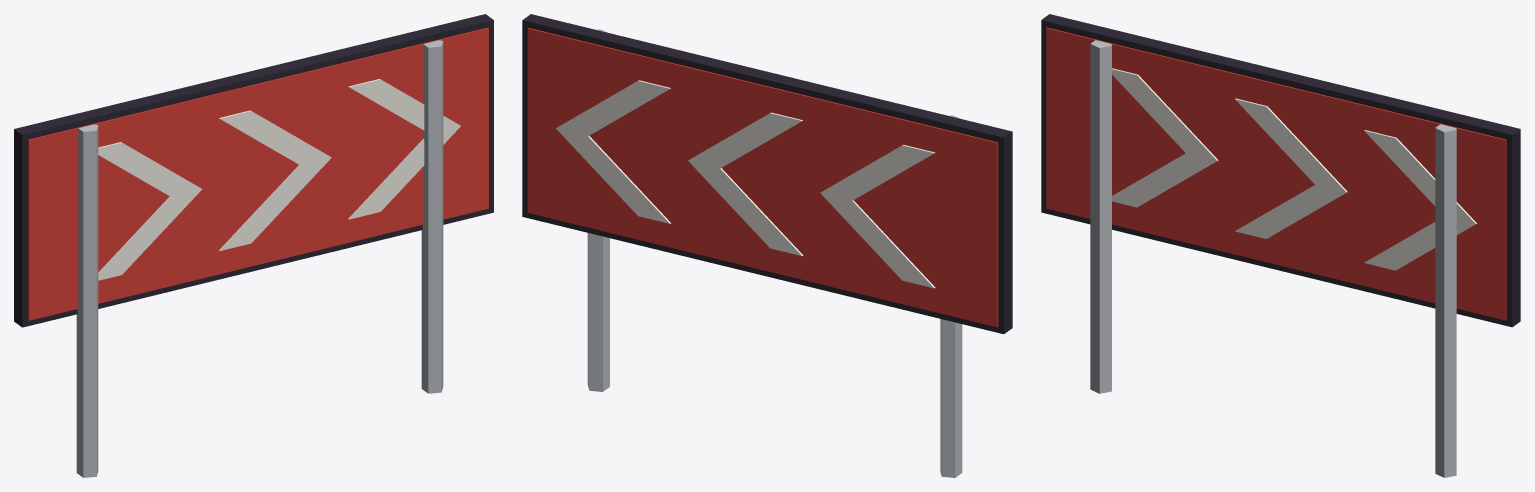
File: chevron_left.glb
3 views of the same model, side by side, from view 1: azimuth 30°, elevation 25°; view 2: azimuth 150°, elevation 25°; view 3: azimuth 330°, elevation 25° (orthographic). The views are drawn at different scales.
Parts seen in each view (by area): view 1: chevron_left; view 2: chevron_left; view 3: chevron_left.
Boxes of the visible parts, x1,y1,x2,y2 form: chevron_left: (14, 14, 493, 477); chevron_left: (522, 14, 1012, 477); chevron_left: (1041, 14, 1520, 477).
Size of the model in its own units: 1.64 by 1.17 by 0.1093.
